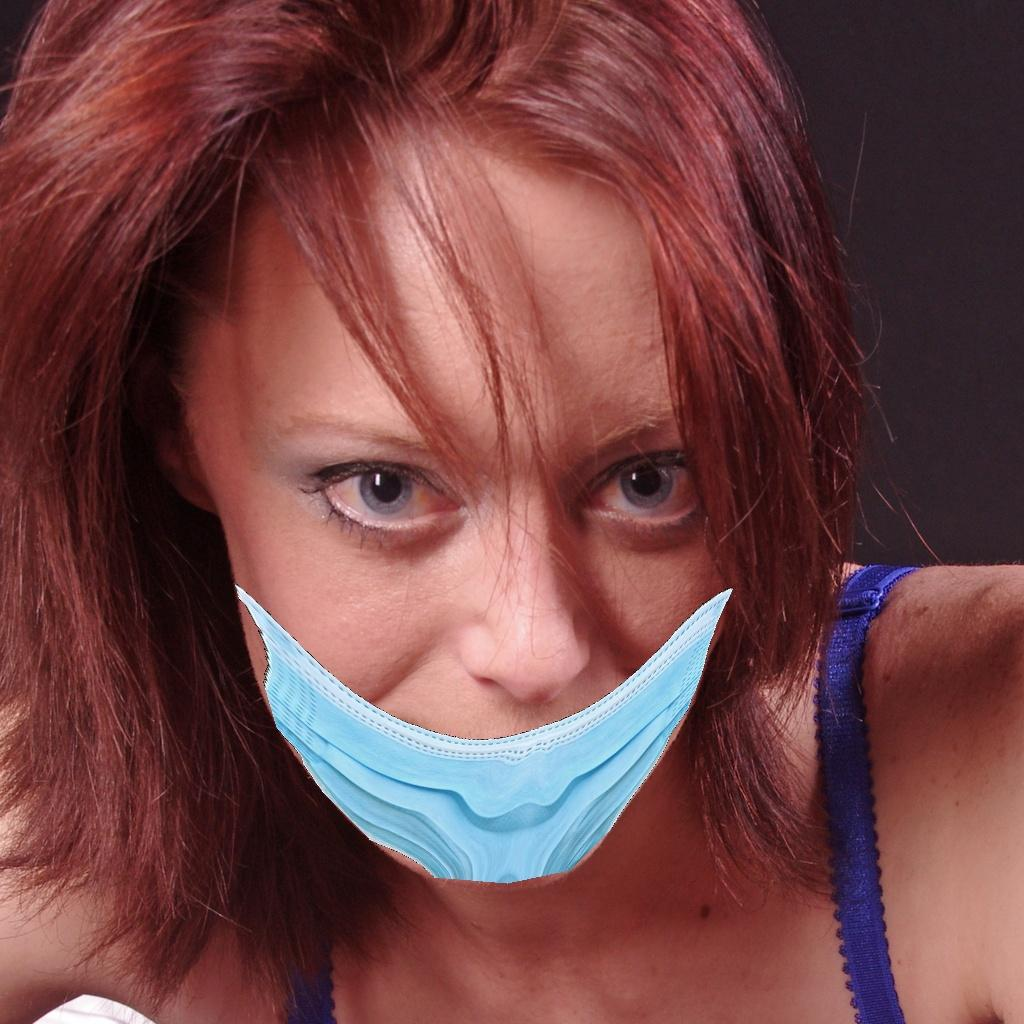Máscara Incorreta: (213, 275, 755, 895)
